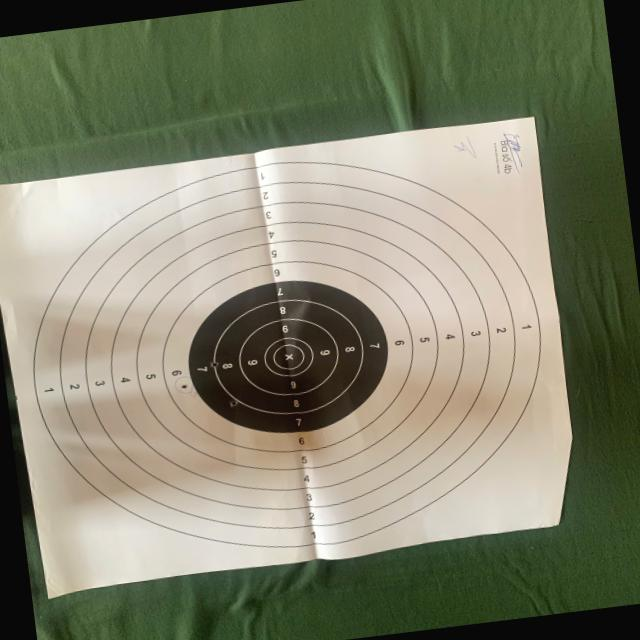bullet: (229, 400, 237, 408), (179, 385, 187, 389), (212, 361, 216, 367)
target: (0, 117, 572, 594)
